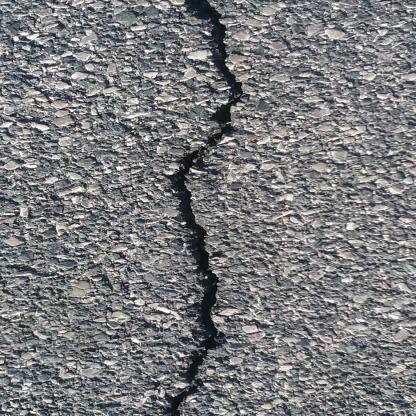Cracks: (125, 0, 247, 416)
